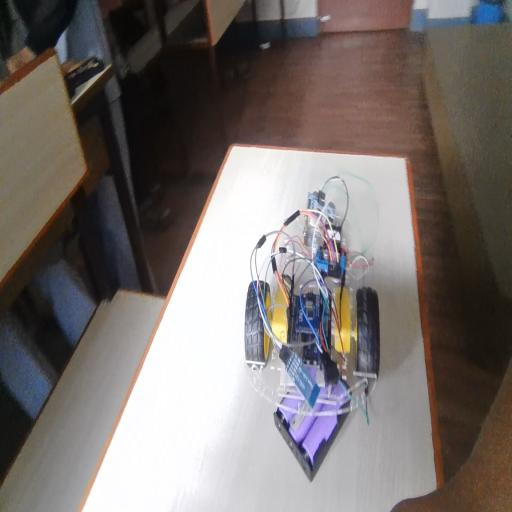car: (234, 160, 388, 437)
